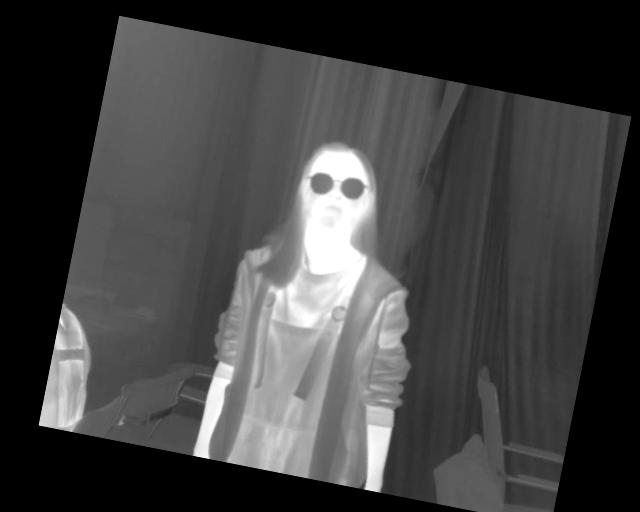face: (292, 136, 383, 238)
